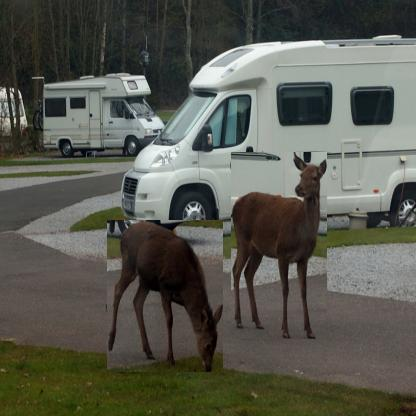Deer: (230, 152, 326, 339), (106, 220, 222, 372)
